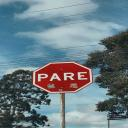Pare: (28, 60, 97, 97)
